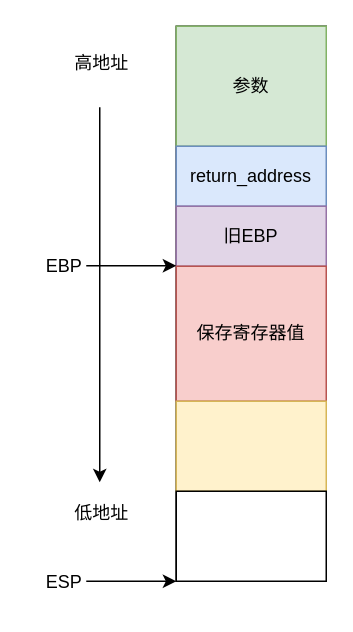
This 353x632 diagram has some shape labels left out. Each missing label, with the box of its shape:
其他数据: (175, 490, 326, 581)
局部变量: (175, 400, 326, 491)
